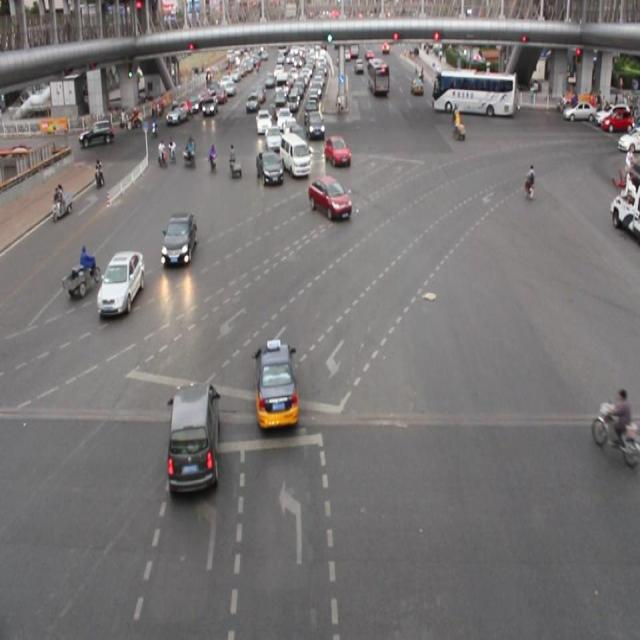car: (254, 340, 299, 430), (96, 251, 144, 312), (162, 212, 197, 270), (309, 178, 349, 222), (256, 151, 282, 186), (324, 134, 350, 168), (305, 108, 325, 142), (264, 123, 282, 154), (256, 108, 272, 137), (290, 124, 306, 152), (284, 116, 297, 134)
truck: (167, 382, 220, 489), (280, 134, 310, 177)
